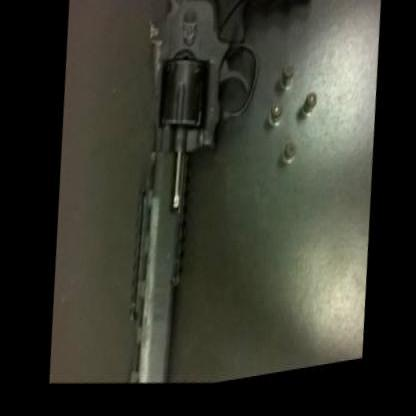pistol: (97, 0, 339, 401)
